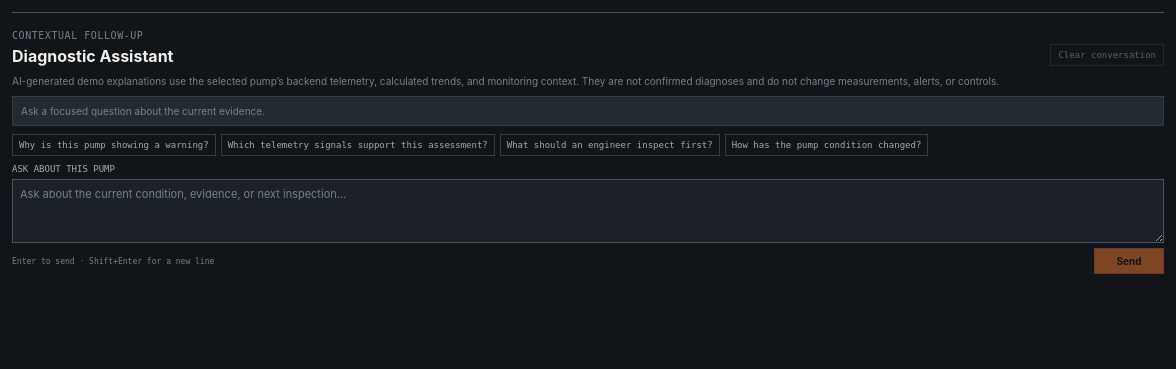
Test: DiagnosticChat › never labels contradictory AMD mock provenance as an AMD response
Replace the text in the text box labelled "Ask about this pump" with "Summarize" at (588, 211), box [12, 179, 1164, 243]
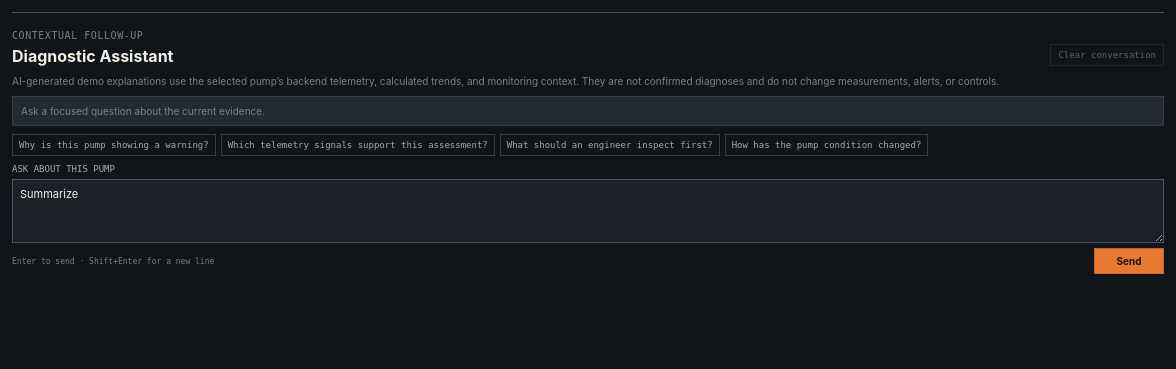
Click the button "Send" at (1129, 261), box [1094, 248, 1164, 274]
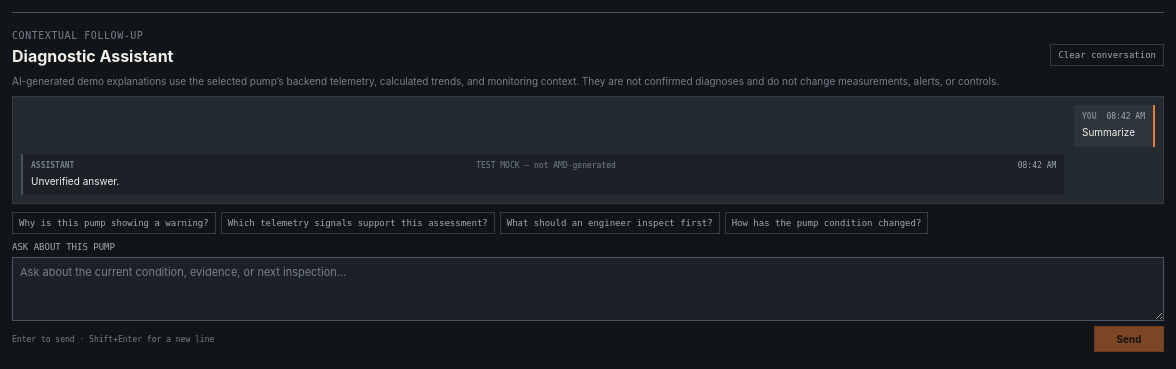
Expected: the text "Unverified answer." is shown, [31, 174, 119, 186]
Expected: the text "TEST MOCK — not AMD-generated" is shown, [476, 160, 616, 170]
